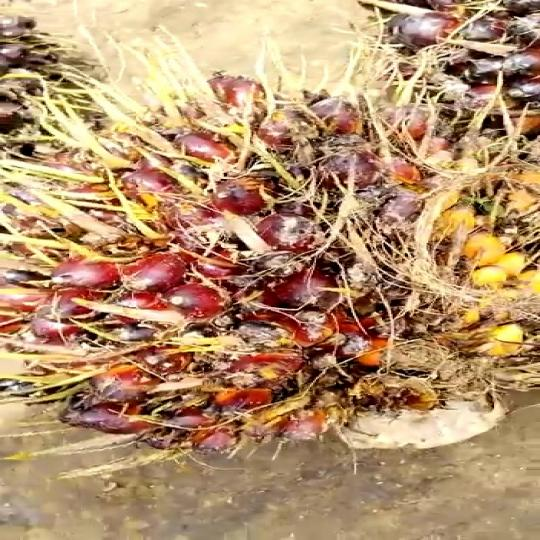masak: (0, 80, 540, 457)
